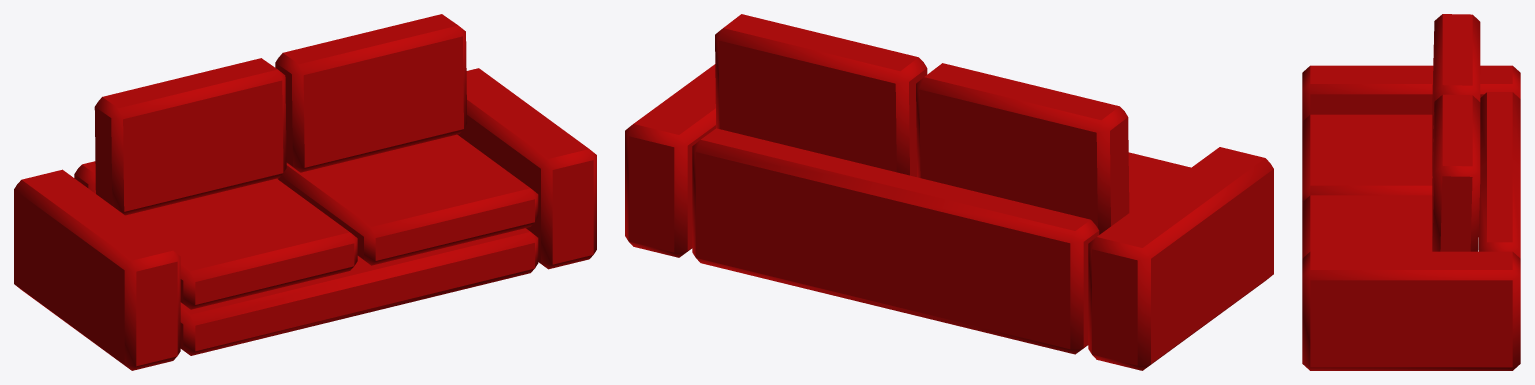
Rendered from sofa.fbx.
The picture shows the model from 3 angles, left to right: view 1: azimuth 30°, elevation 25°; view 2: azimuth 150°, elevation 25°; view 3: azimuth 270°, elevation 25°; orthographic projection. The views are drawn at different scales.
Parts seen in each view (by area): view 1: polySurface11; view 2: polySurface11; view 3: polySurface11.
Boxes of the visible parts, left/top/right/bottom form: polySurface11: left=14, top=14, right=596, bottom=370; polySurface11: left=625, top=14, right=1273, bottom=370; polySurface11: left=1302, top=14, right=1520, bottom=370.
Bounding box in the file's own units: 20.91 × 8.26 × 9.14.
1 material, 1 textured.
